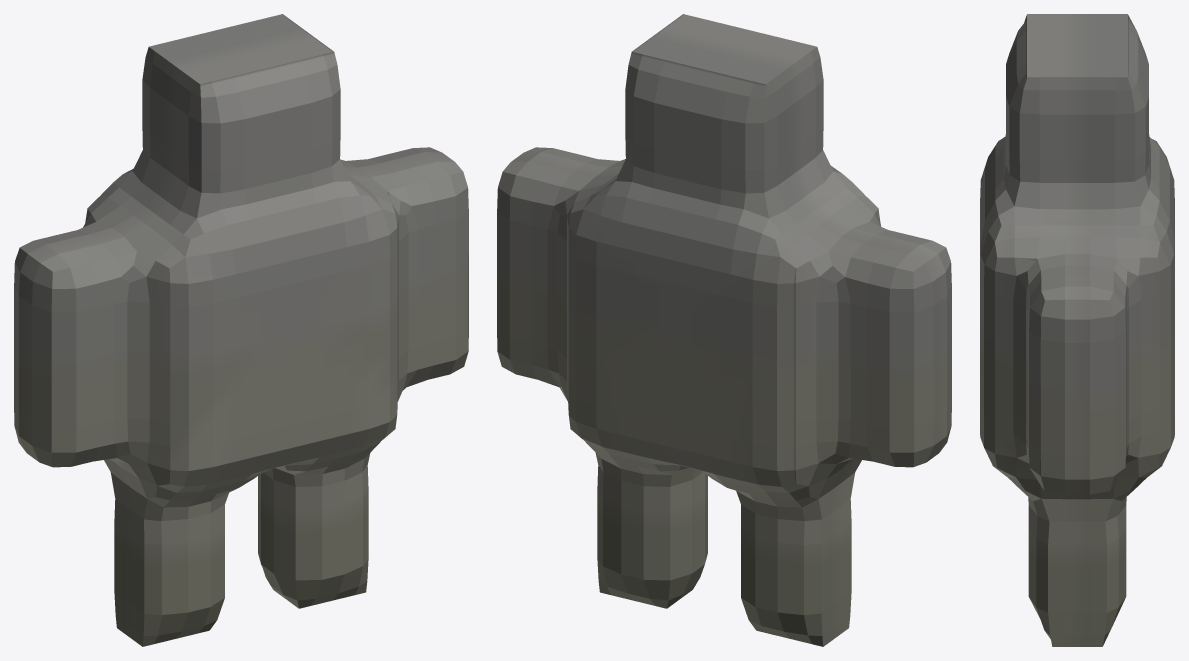
The model's file is magicArmor.glb.
3 renders of one model, left to right at view 1: azimuth 30°, elevation 25°; view 2: azimuth 150°, elevation 25°; view 3: azimuth 270°, elevation 25°, orthographic. The views are drawn at different scales.
Parts seen in each view (by area): view 1: geometry_0; view 2: geometry_0; view 3: geometry_0.
Part boxes in pixels (<box>): geometry_0: <box>14,14,468,646</box>; geometry_0: <box>497,14,951,646</box>; geometry_0: <box>980,14,1174,646</box>.
Size of the model in its own units: 0.8065 by 1 by 0.3226.
Materials: 1 (1 with a texture image).
